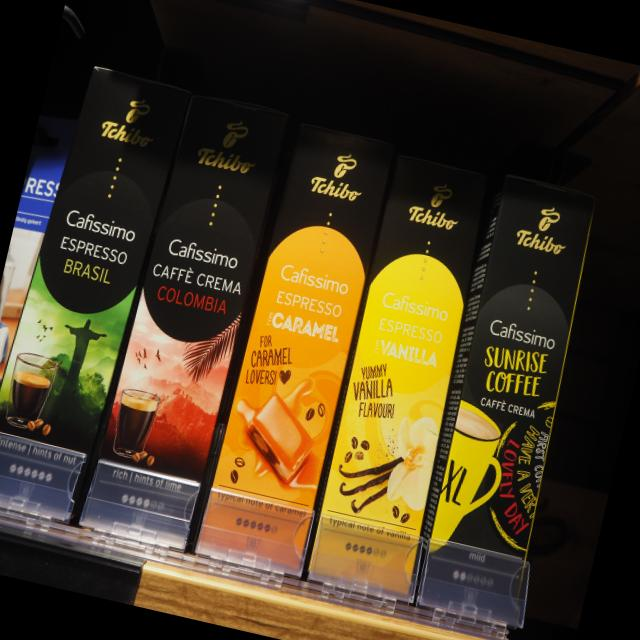Simo CC Colombia: (77, 89, 298, 546)
Simo Es Brazil: (0, 60, 194, 528)
Simo Es Caramel: (190, 120, 397, 575)
Simo Es Vanilla: (305, 149, 494, 608)
Simo Sunrise: (418, 172, 597, 635)
